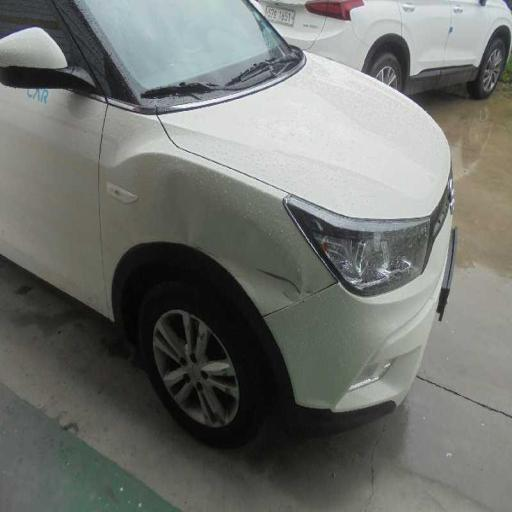dent: (128, 137, 340, 330)
